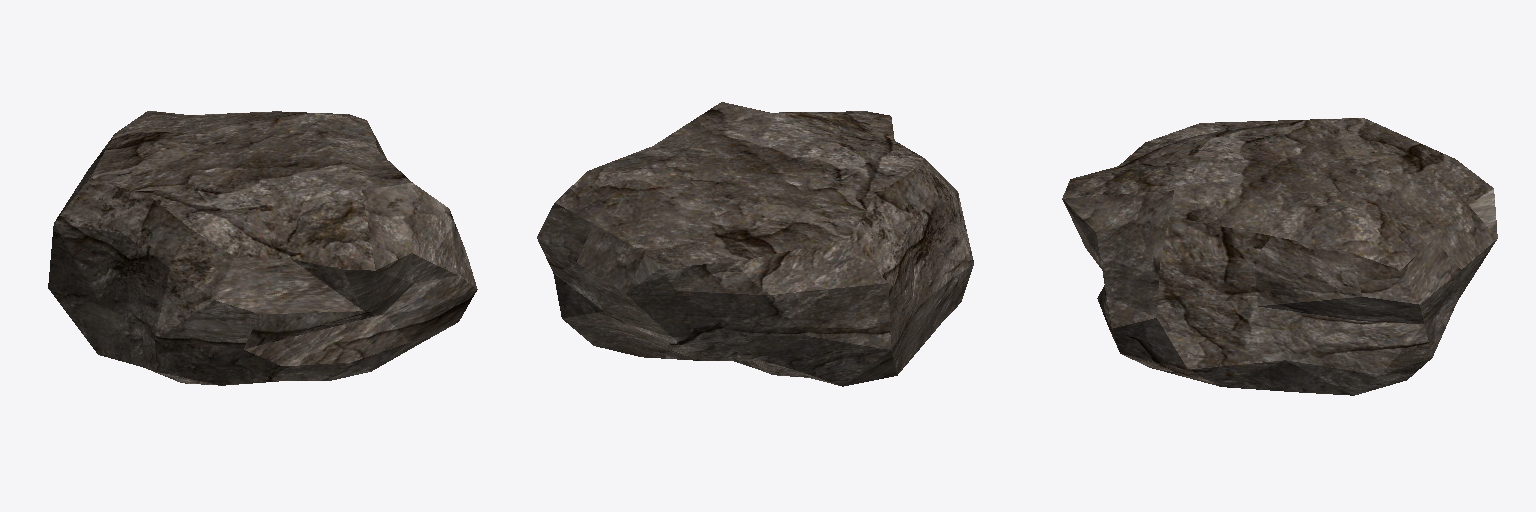
3 views of the same model, side by side, from view 1: azimuth 30°, elevation 25°; view 2: azimuth 150°, elevation 25°; view 3: azimuth 270°, elevation 25° (orthographic).
Visible parts, largest first — view 1: Cube.001; view 2: Cube.001; view 3: Cube.001.
Boxes of the visible parts, <box> form: Cube.001: <box>48,111,477,385</box>; Cube.001: <box>537,102,973,386</box>; Cube.001: <box>1062,118,1497,395</box>.
Bounding box in the file's own units: 3.18 × 1.68 × 3.63.
Materials: 1 (1 with a texture image).